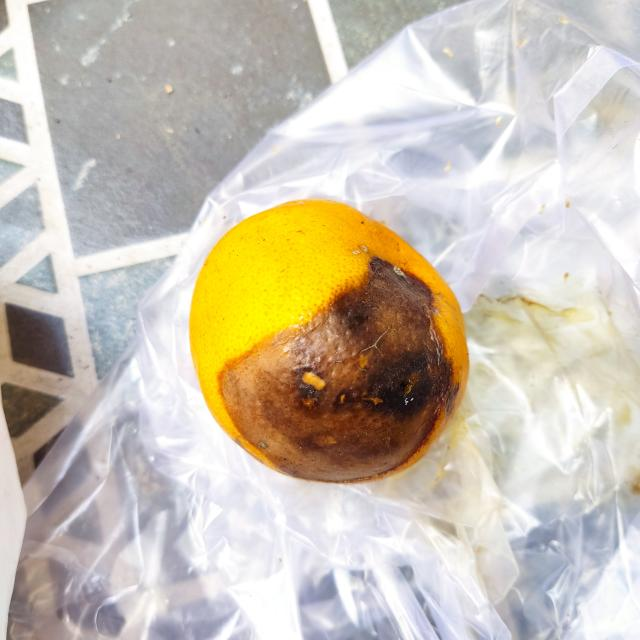orange: (187, 194, 469, 485)
